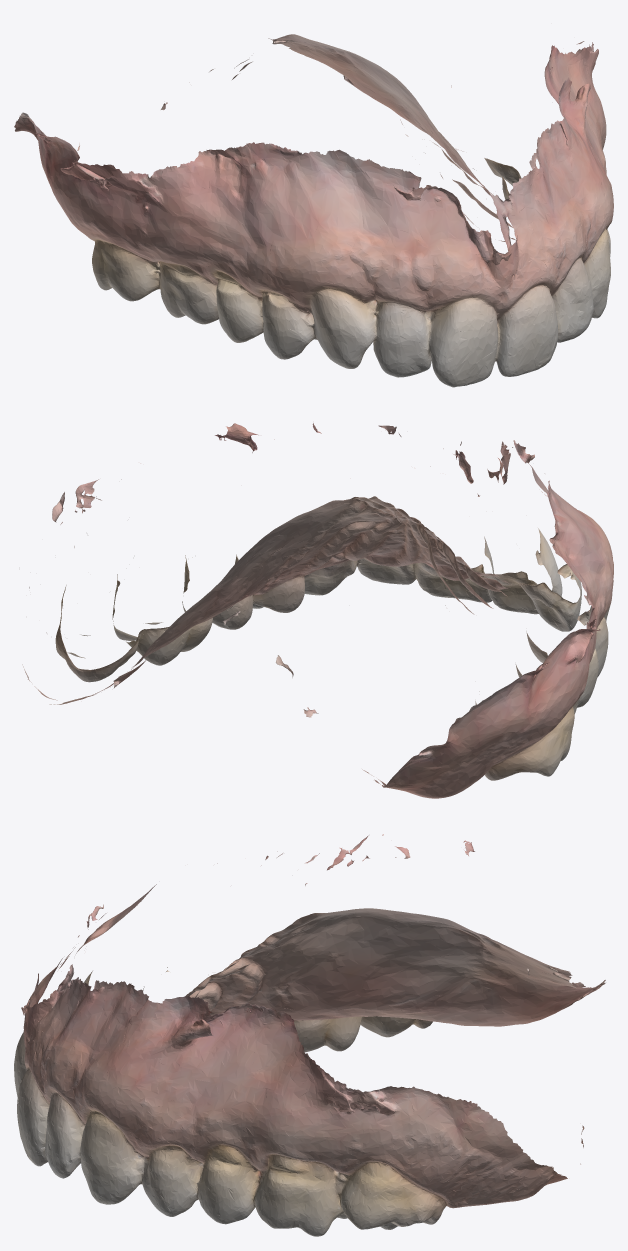
Rendered from oberkiefer.glb.
3 renders of one model, top to bottom at view 1: azimuth 30°, elevation 25°; view 2: azimuth 150°, elevation 25°; view 3: azimuth 270°, elevation 25°, orthographic. The views are drawn at different scales.
Parts seen in each view (by area): view 1: oberkiefer; view 2: oberkiefer; view 3: oberkiefer.
Part boxes in pixels (x1,y1,x2,y2): oberkiefer: (14, 34, 613, 387); oberkiefer: (22, 423, 613, 798); oberkiefer: (14, 834, 605, 1236).
Bounding box in the file's own units: 0.0699 × 0.0273 × 0.0657.
